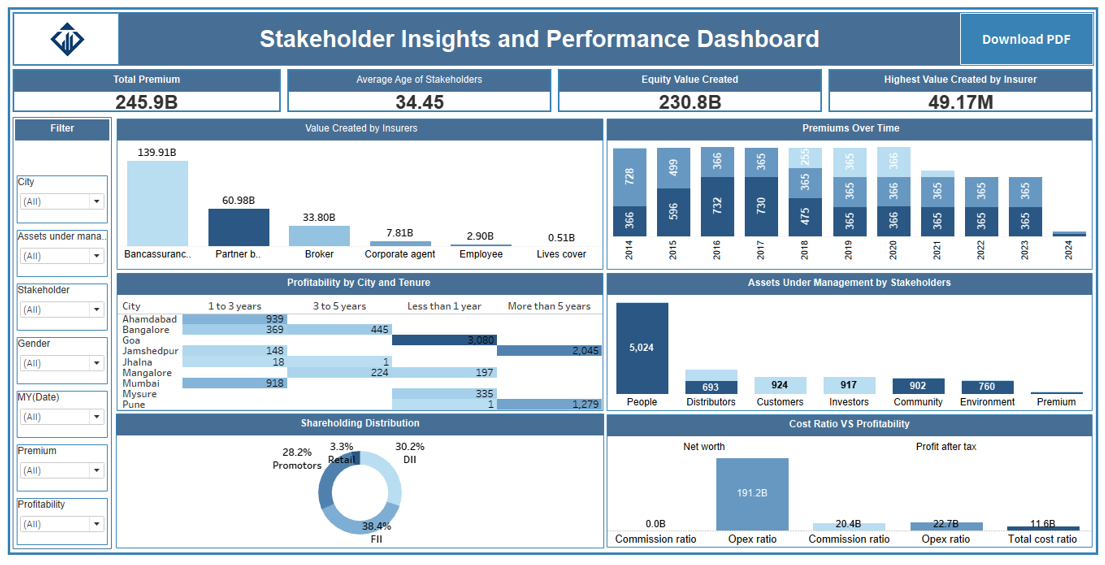

Layout of this report page (visuals, bound fields, positions):
{"tool":"tableau","page":{"name":"Stakeholder Insights and Performance Dashboard","canvas":[1000,1000],"units":"permille","ordinal":0},"visuals":[{"type":"image","param":"Image/logo.jpg","box":[16.5,34.9,112.5,117.6]},{"type":"text","box":[129,34.9,713.4,117.6]},{"type":"dashboard-object","box":[842.4,34.9,142,117.6]},{"type":"worksheet","title":"Total Premium","mark":"Automatic","box":[15.6,154.4,243.3,112.1]},{"type":"worksheet","title":"Average Age of Stakeholders","mark":"Automatic","box":[258.9,154.4,243.3,112.1]},{"type":"worksheet","title":"Equity Value Created","mark":"Automatic","box":[502.2,154.4,242.4,112.1]},{"type":"worksheet","title":"Highest Value Created by Insurer","mark":"Automatic","box":[744.6,154.4,242.4,112.1]},{"type":"worksheet","title":" Value Created by Insurers","mark":"Automatic","rows":["Value Created"],"cols":["Insurer"],"box":[124.7,270.2,430.3,318]},{"type":"worksheet","title":" Premiums Over Time","mark":"Bar","rows":["Premium 1"],"cols":["Date"],"box":[555,270.2,430.3,318]},{"type":"worksheet","title":"Filter","mark":"Automatic","box":[16.4,272.1,103.9,86.4]},{"type":"filter","title":"Filter","param":"[federated.1io6uem18lp4zd10s1bus1x1j3fl].[none:City:nk]","box":[16.4,358.5,103.9,86.4]},{"type":"filter","title":"Filter","param":"[federated.1io6uem18lp4zd10s1bus1x1j3fl].[none:Assets under management:nk]","box":[16.4,444.9,103.9,86.4]},{"type":"filter","title":"Filter","param":"[federated.1io6uem18lp4zd10s1bus1x1j3fl].[none:Stakeholder:nk]","box":[16.4,531.2,103.9,86.4]},{"type":"worksheet","title":"Profitability by City and Tenure ","mark":"Square","rows":["City"],"cols":["Policy tenuer"],"box":[124.7,588.2,430.3,318]},{"type":"worksheet","title":"Assets Under Management by Stakeholders","mark":"Automatic","rows":["Assets under management"],"cols":["Stakeholder"],"box":[555,588.2,430.3,318]},{"type":"filter","title":"Filter","param":"[federated.1io6uem18lp4zd10s1bus1x1j3fl].[none:Gender:nk]","box":[16.4,617.6,103.9,86.4]},{"type":"filter","title":"Filter","param":"[federated.1io6uem18lp4zd10s1bus1x1j3fl].[my:Date:ok]","box":[16.4,704,103.9,86.4]},{"type":"filter","title":"Filter","param":"[federated.1io6uem18lp4zd10s1bus1x1j3fl].[none:Premium 1:nk]","box":[16.4,790.4,103.9,86.4]},{"type":"filter","title":"Filter","param":"[federated.1io6uem18lp4zd10s1bus1x1j3fl].[none:Profitability:nk]","box":[16.4,876.8,103.9,86.4]},{"type":"worksheet","title":"Shareholding Distribution","mark":"Pie","rows":["Calculation_361132459883507712","Calculation_361132459883507712"],"box":[124.7,906.2,430.3,58.8]},{"type":"worksheet","title":"Cost Ratio VS Profitability","mark":"Automatic","rows":["Value Created"],"cols":["Profitability","Cost ratio"],"box":[555,906.2,430.3,58.8]}]}

Visuals, with their boxes on the dashboard's canvas, which has no fixed pixel size, in thousandths of its width and height (x1, y1, x2, y2). These are canvas units, not pixel positions in the 1105x565 screenshot, which may show the page scaled, cropped or inside an application window:
image: [x1=16, y1=35, x2=129, y2=152]
text: [x1=129, y1=35, x2=842, y2=152]
dashboard-object: [x1=842, y1=35, x2=984, y2=152]
"Total Premium" worksheet: [x1=16, y1=154, x2=259, y2=266]
"Average Age of Stakeholders" worksheet: [x1=259, y1=154, x2=502, y2=266]
"Equity Value Created" worksheet: [x1=502, y1=154, x2=745, y2=266]
"Highest Value Created by Insurer" worksheet: [x1=745, y1=154, x2=987, y2=266]
" Value Created by Insurers" worksheet: [x1=125, y1=270, x2=555, y2=588]
" Premiums Over Time" worksheet (Bar marks): [x1=555, y1=270, x2=985, y2=588]
"Filter" worksheet: [x1=16, y1=272, x2=120, y2=358]
"Filter" filter: [x1=16, y1=358, x2=120, y2=445]
"Filter" filter: [x1=16, y1=445, x2=120, y2=531]
"Filter" filter: [x1=16, y1=531, x2=120, y2=618]
"Profitability by City and Tenure " worksheet (Square marks): [x1=125, y1=588, x2=555, y2=906]
"Assets Under Management by Stakeholders" worksheet: [x1=555, y1=588, x2=985, y2=906]
"Filter" filter: [x1=16, y1=618, x2=120, y2=704]
"Filter" filter: [x1=16, y1=704, x2=120, y2=790]
"Filter" filter: [x1=16, y1=790, x2=120, y2=877]
"Filter" filter: [x1=16, y1=877, x2=120, y2=963]
"Shareholding Distribution" worksheet (Pie marks): [x1=125, y1=906, x2=555, y2=965]
"Cost Ratio VS Profitability" worksheet: [x1=555, y1=906, x2=985, y2=965]
